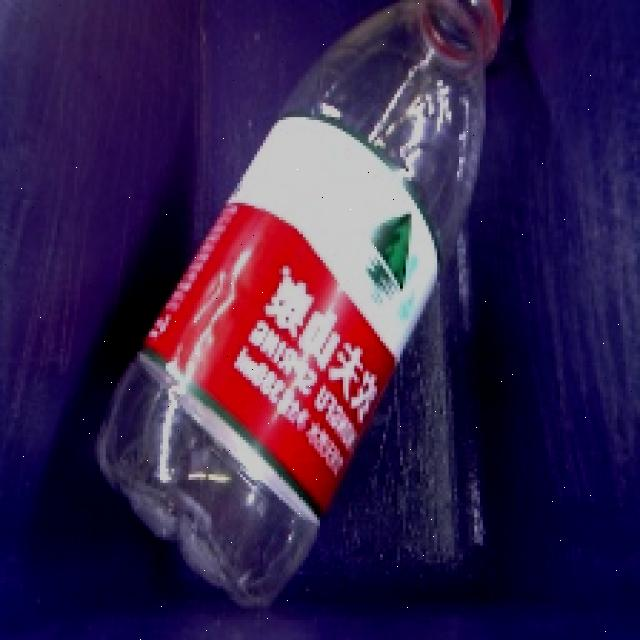plastic: (67, 0, 551, 628)
